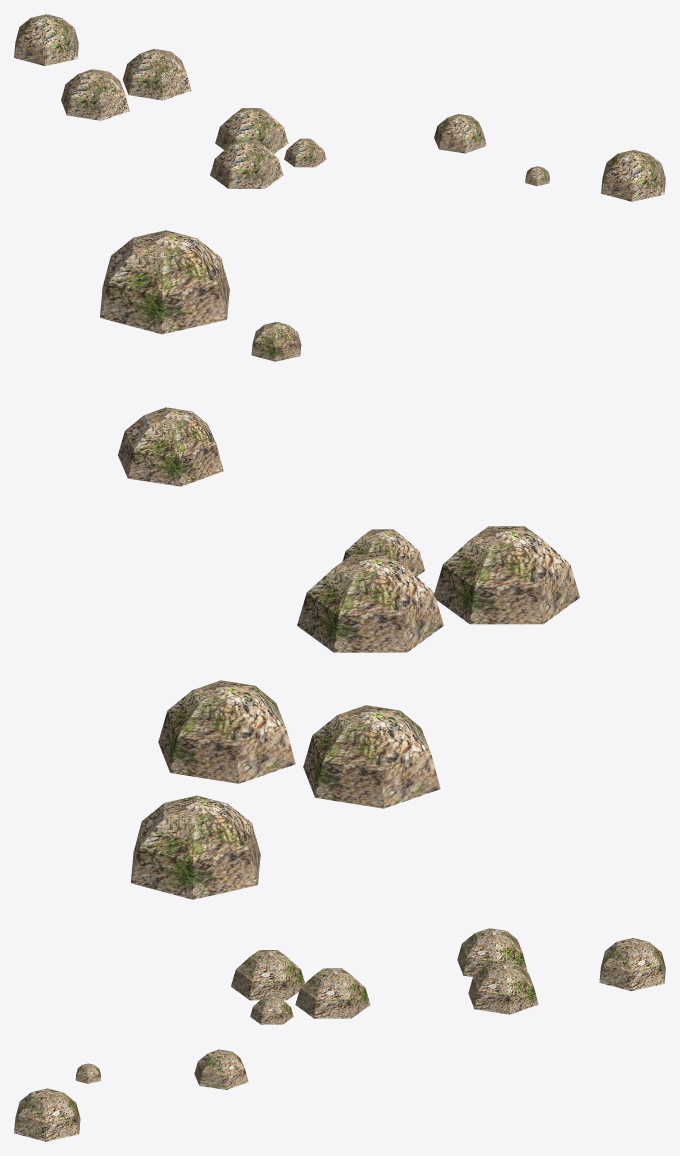
Rendered from ground-clutter.fbx.
3 views of the same model, one above another, from view 1: azimuth 30°, elevation 25°; view 2: azimuth 150°, elevation 25°; view 3: azimuth 270°, elevation 25° (orthographic). The views are drawn at different scales.
Visible parts, largest first — view 1: Sphere; view 2: Sphere; view 3: Sphere.
Part boxes in pixels (<box>): Sphere: <box>14,14,665,201</box>; Sphere: <box>100,230,579,899</box>; Sphere: <box>14,928,665,1141</box>.
Size of the model in its own units: 61.89 by 5.13 by 88.84.
